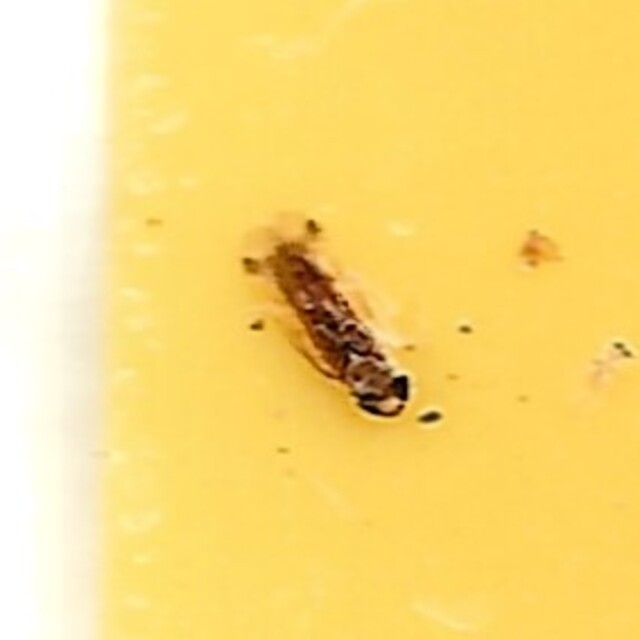Hemiptera: (226, 213, 414, 427)
